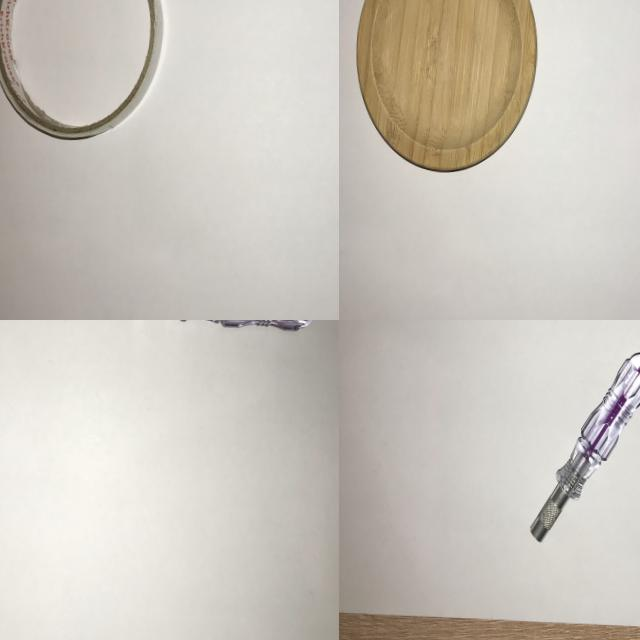cup_holder: (346, 0, 546, 185)
scotch: (0, 0, 174, 148)
screwdriver: (524, 342, 640, 552), (127, 320, 323, 339)
